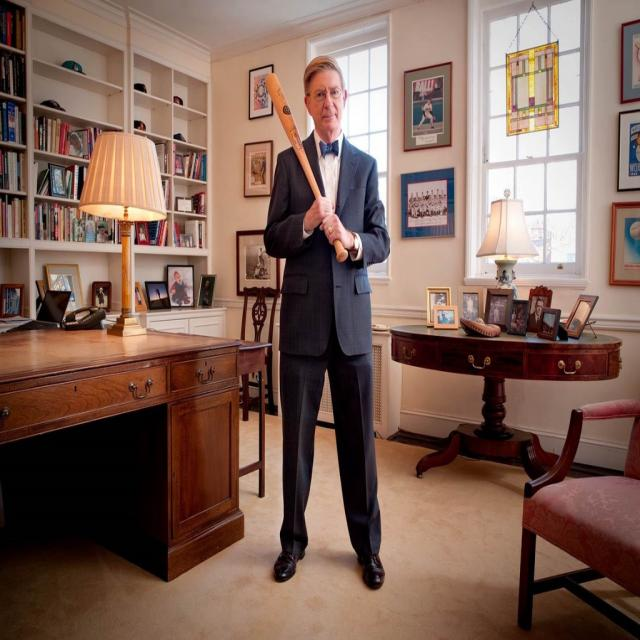chair: (518, 399, 640, 632)
desk: (0, 251, 236, 608)
person: (262, 55, 392, 592)
